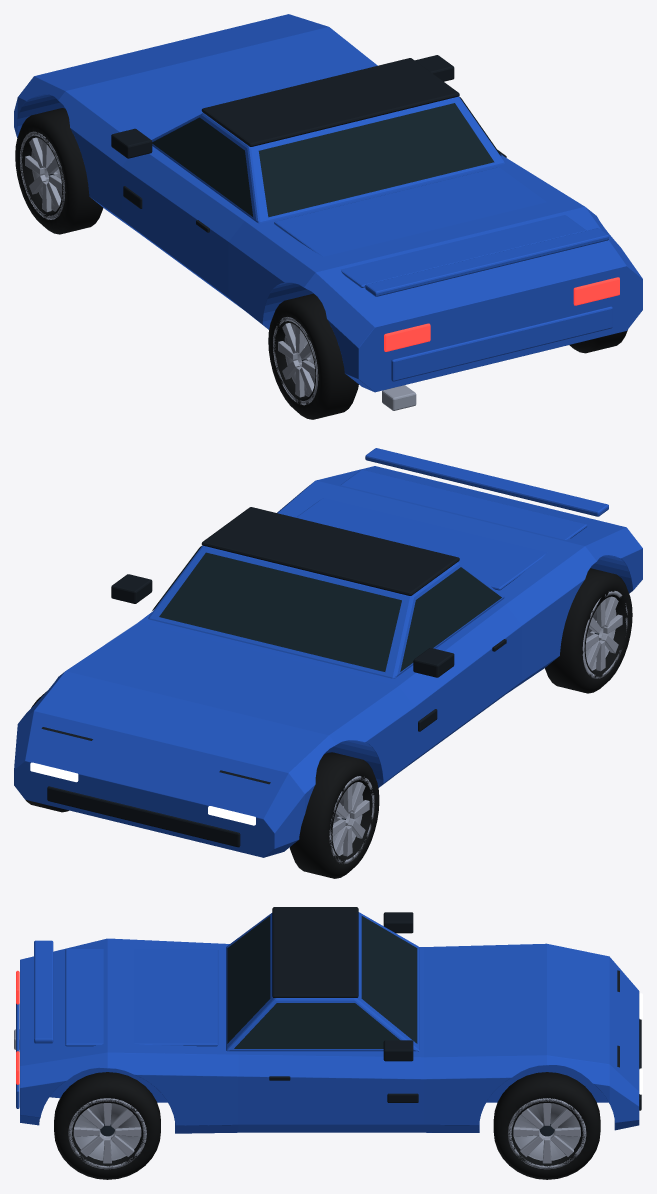
File: ns-skim-01.glb
The picture shows the model from 3 angles, top to bottom: view 1: azimuth 30°, elevation 25°; view 2: azimuth 150°, elevation 25°; view 3: azimuth 270°, elevation 25°; orthographic projection. The views are drawn at different scales.
Visible parts, largest first — view 1: coachwork, short-deck, rear-glass, hardtop-cap, tire-rear-left, tire-front-left, rear-apron, roadster-cabin, side-glass-left, deck-ridge, rim-front-left, mirror-left (+6 smaller); view 2: coachwork, windshield, short-deck, hardtop-cap, tire-front-left, roadster-cabin, tire-rear-left, side-glass-left, deck-ridge, nose-slot, mirror-left, mirror-right (+2 smaller); view 3: coachwork, short-deck, hardtop-cap, tire-front-right, tire-rear-right, side-glass-right, windshield, rear-glass, roadster-cabin, rim-rear-right, rim-front-right, deck-ridge (+2 smaller).
Part boxes in pixels (bbox=[...]): coachwork: bbox=[14, 14, 642, 392]; short-deck: bbox=[274, 167, 586, 287]; rear-glass: bbox=[258, 103, 494, 217]; hardtop-cap: bbox=[201, 58, 459, 146]; tire-rear-left: bbox=[268, 293, 358, 419]; tire-front-left: bbox=[15, 108, 103, 234]; rear-apron: bbox=[391, 306, 612, 381]; roadster-cabin: bbox=[151, 96, 504, 223]; side-glass-left: bbox=[152, 117, 252, 216]; deck-ridge: bbox=[365, 228, 608, 296]; rim-front-left: bbox=[20, 131, 65, 219]; mirror-left: bbox=[111, 128, 152, 158]; coachwork: bbox=[14, 466, 642, 857]; windshield: bbox=[159, 552, 401, 671]; short-deck: bbox=[296, 469, 587, 590]; hardtop-cap: bbox=[201, 507, 459, 595]; tire-front-left: bbox=[289, 752, 379, 878]; roadster-cabin: bbox=[148, 545, 504, 678]; tire-rear-left: bbox=[545, 568, 632, 693]; side-glass-left: bbox=[400, 567, 501, 671]; deck-ridge: bbox=[365, 448, 608, 516]; nose-slot: bbox=[47, 786, 240, 847]; mirror-left: bbox=[413, 648, 454, 677]; mirror-right: bbox=[111, 574, 152, 603]; coachwork: bbox=[20, 938, 639, 1133]; short-deck: bbox=[65, 949, 218, 1046]; hardtop-cap: bbox=[272, 907, 358, 997]; tire-front-right: bbox=[493, 1072, 600, 1179]; tire-rear-right: bbox=[54, 1072, 160, 1179]; side-glass-right: bbox=[234, 1003, 399, 1048]; windshield: bbox=[361, 916, 417, 1043]; rear-glass: bbox=[227, 916, 270, 1043]; roadster-cabin: bbox=[226, 912, 419, 1051]; rim-rear-right: bbox=[68, 1098, 146, 1169]; rim-front-right: bbox=[508, 1098, 586, 1169]; deck-ridge: bbox=[34, 940, 53, 1043].
Size of the model in its own units: 2.21 by 1.23 by 4.24.
